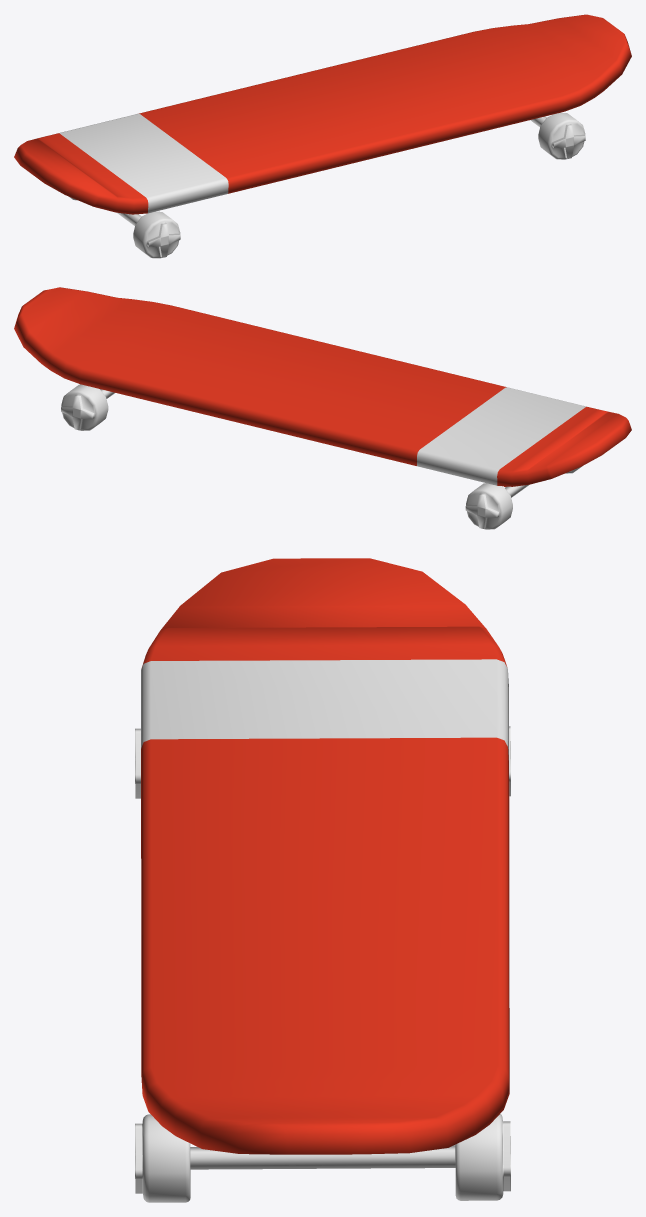
The model's file is Skateboard.fbx.
3 views of the same model, one above another, from view 1: azimuth 30°, elevation 25°; view 2: azimuth 150°, elevation 25°; view 3: azimuth 270°, elevation 25° (orthographic). The views are drawn at different scales.
Visible parts, largest first — view 1: Skateboard, WheelFrontLeft, WheelBackLeft; view 2: Skateboard, WheelFrontRight, WheelBackRight; view 3: Skateboard, ShaftBack, WheelBackLeft, WheelBackRight.
Boxes of the visible parts, x1,y1,x2,y2 form: Skateboard: (14,14,631,214); WheelFrontLeft: (133,211,180,258); WheelBackLeft: (538,112,585,159); Skateboard: (14,287,631,486); WheelFrontRight: (465,483,512,529); WheelBackRight: (61,384,108,430); Skateboard: (141,558,509,1154); ShaftBack: (190,1145,455,1169); WheelBackLeft: (135,1114,190,1202); WheelBackRight: (455,1113,510,1200).
Bounding box in the file's own units: 347 × 47.26 × 96.46.
